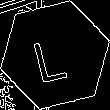L_N: (34, 27, 76, 83)
